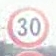limite 30: (5, 6, 50, 49)
